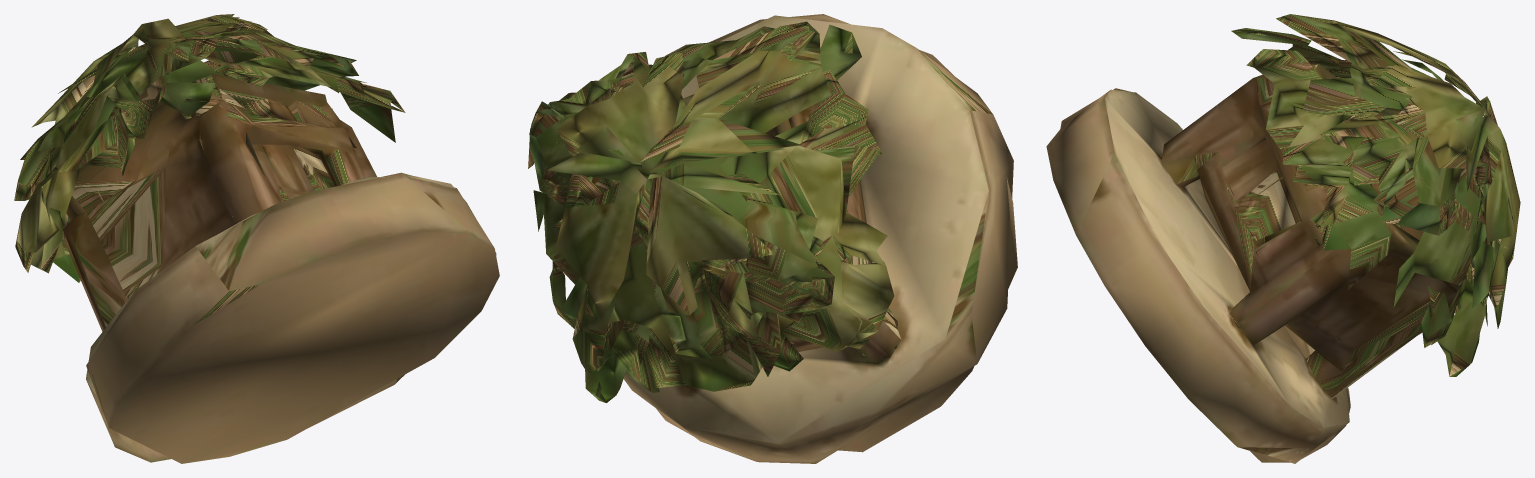
Rendered from sw-shelter-lite.glb.
3 renders of one model, left to right at view 1: azimuth 30°, elevation 25°; view 2: azimuth 150°, elevation 25°; view 3: azimuth 270°, elevation 25°, orthographic. The views are drawn at different scales.
Visible parts, largest first — view 1: geometry_0; view 2: geometry_0; view 3: geometry_0.
Boxes of the visible parts, x1,y1,x2,y2 form: geometry_0: (14,14,499,463); geometry_0: (528,14,1017,463); geometry_0: (1046,14,1520,463).
Size of the model in its own units: 0.8346 by 0.8983 by 0.9491.
Materials: 1 (1 with a texture image).
